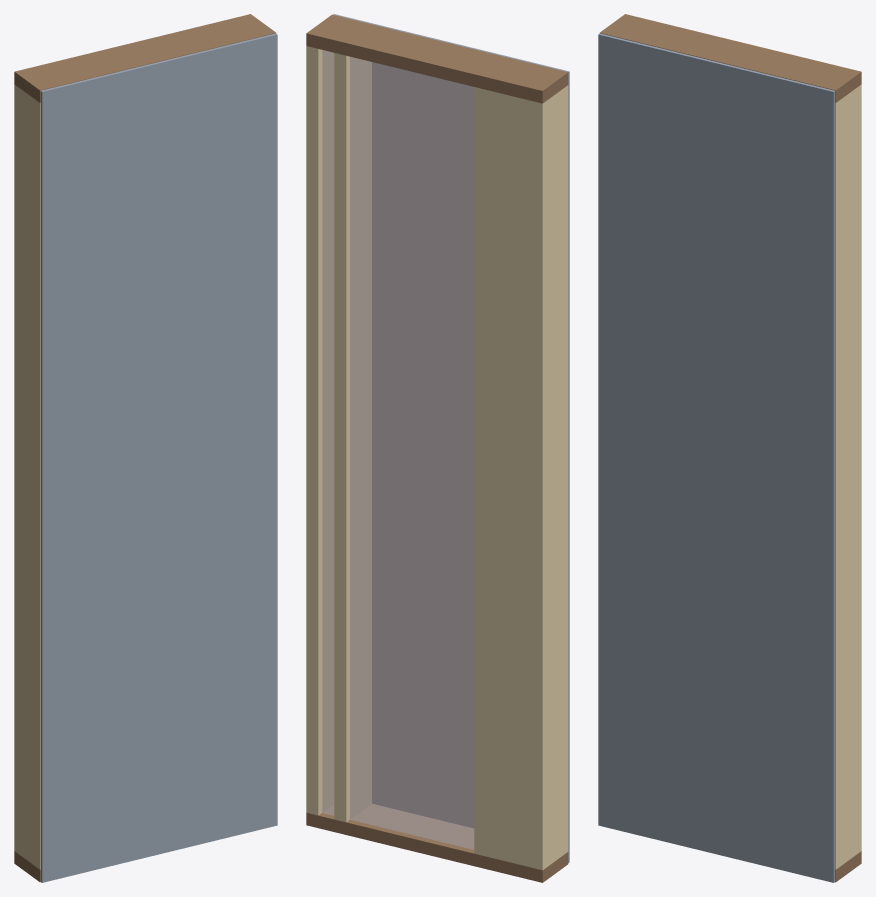
The picture shows the model from 3 angles, left to right: view 1: azimuth 30°, elevation 25°; view 2: azimuth 150°, elevation 25°; view 3: azimuth 330°, elevation 25°; orthographic projection.
Visible parts, largest first — view 1: EX23 GF; view 2: EX23 GF; view 3: EX23 GF.
Boxes of the visible parts, bbox=[...] form: EX23 GF: bbox=[14, 14, 277, 882]; EX23 GF: bbox=[306, 14, 569, 882]; EX23 GF: bbox=[598, 14, 861, 882].
Size of the model in its own units: 0.745 by 2.39 by 0.149.
